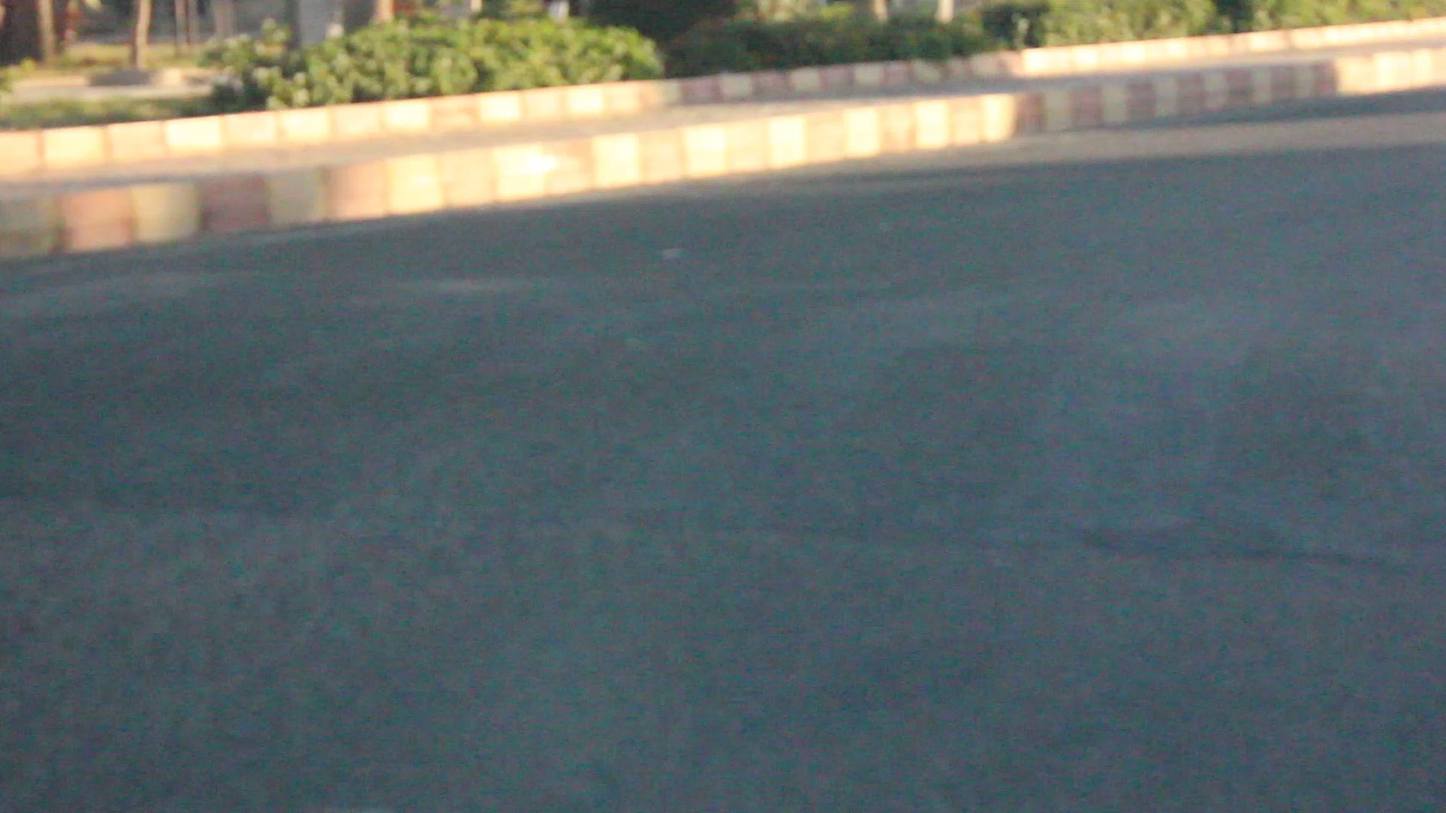Bump: (49, 243, 1446, 606)
